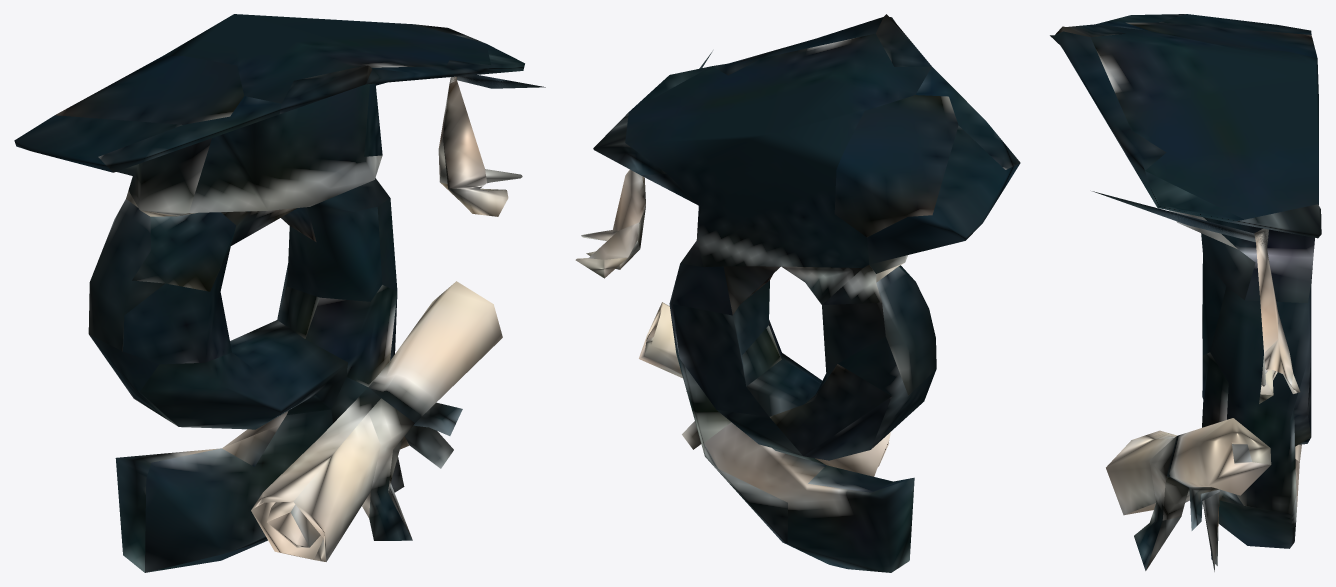
3 views of the same model, side by side, from view 1: azimuth 30°, elevation 25°; view 2: azimuth 150°, elevation 25°; view 3: azimuth 270°, elevation 25° (orthographic). The views are drawn at different scales.
Visible parts, largest first — view 1: Graduation-9; view 2: Graduation-9; view 3: Graduation-9.
Part boxes in pixels (x1,y1,x2,y2): Graduation-9: [14, 14, 545, 572]; Graduation-9: [575, 14, 1020, 572]; Graduation-9: [1050, 14, 1321, 571].
Size of the model in its own units: 0.2624 by 0.2882 by 0.1334.
Materials: 1 (1 with a texture image).
